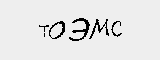М: (88, 15, 110, 43)
О: (47, 19, 65, 44)
С: (108, 18, 124, 41)
Т: (34, 19, 50, 44)
Э: (69, 15, 89, 41)
